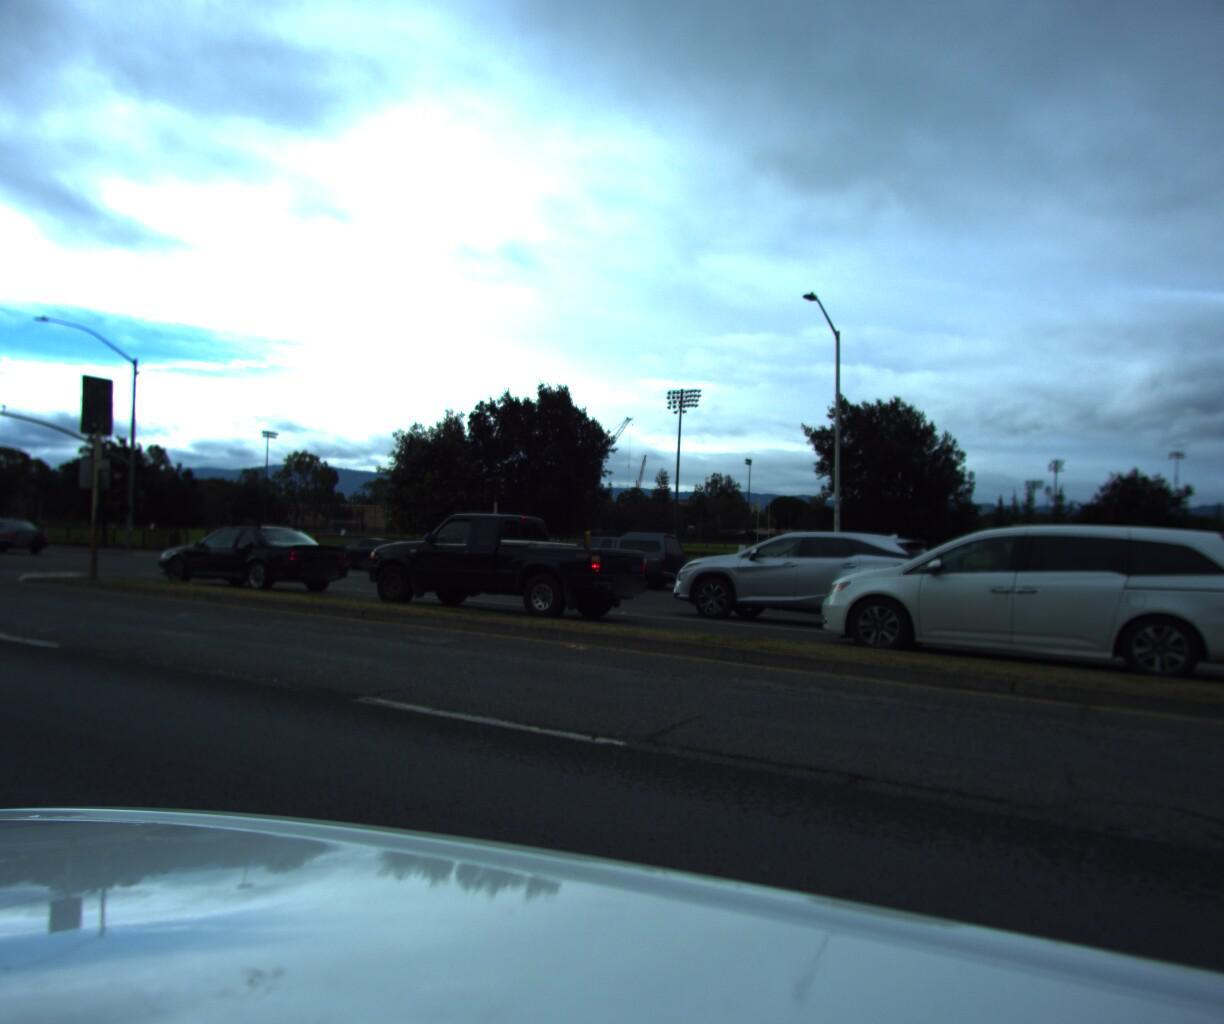car: (810, 513, 1224, 691), (342, 505, 661, 627), (656, 519, 951, 638), (134, 508, 364, 598), (523, 523, 689, 593), (303, 531, 427, 575), (1196, 551, 1224, 653), (0, 514, 51, 552)
